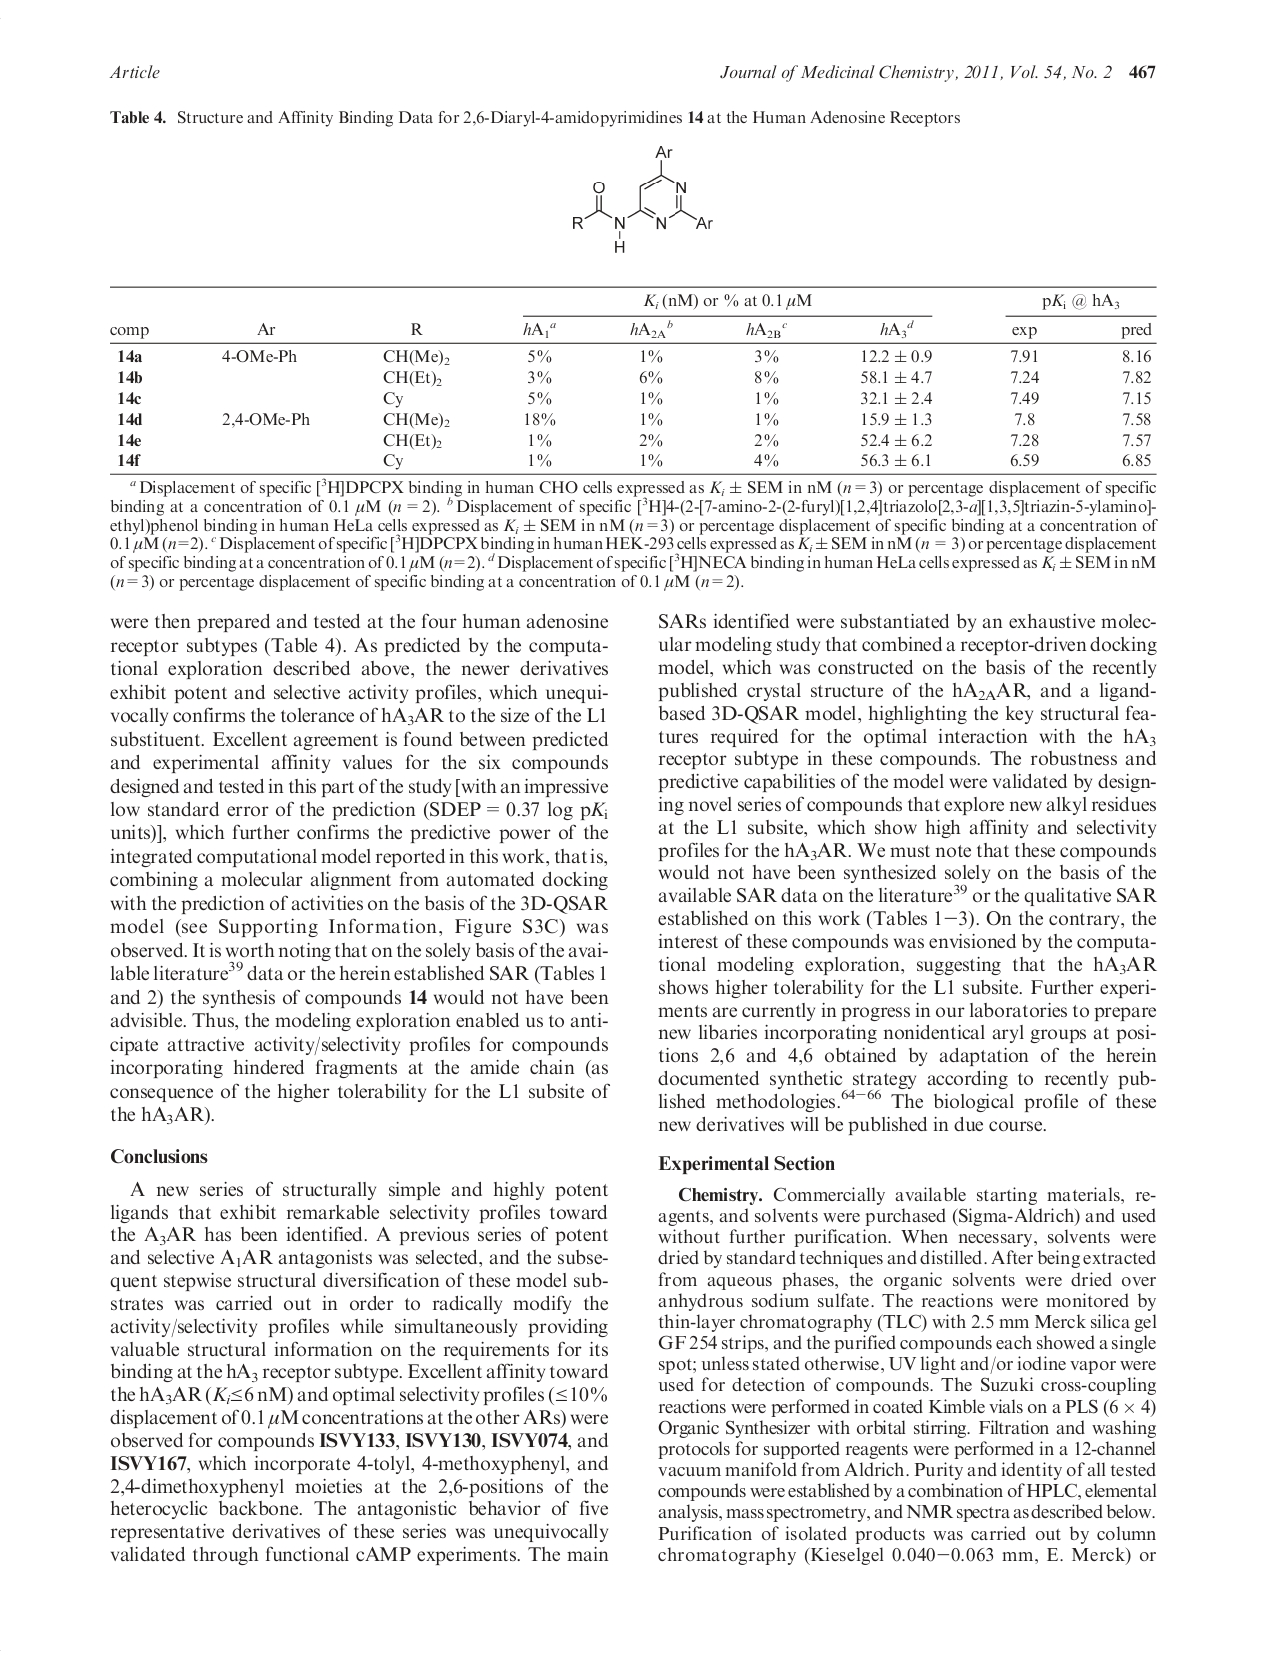exist_molecular: (568, 140, 715, 255)
